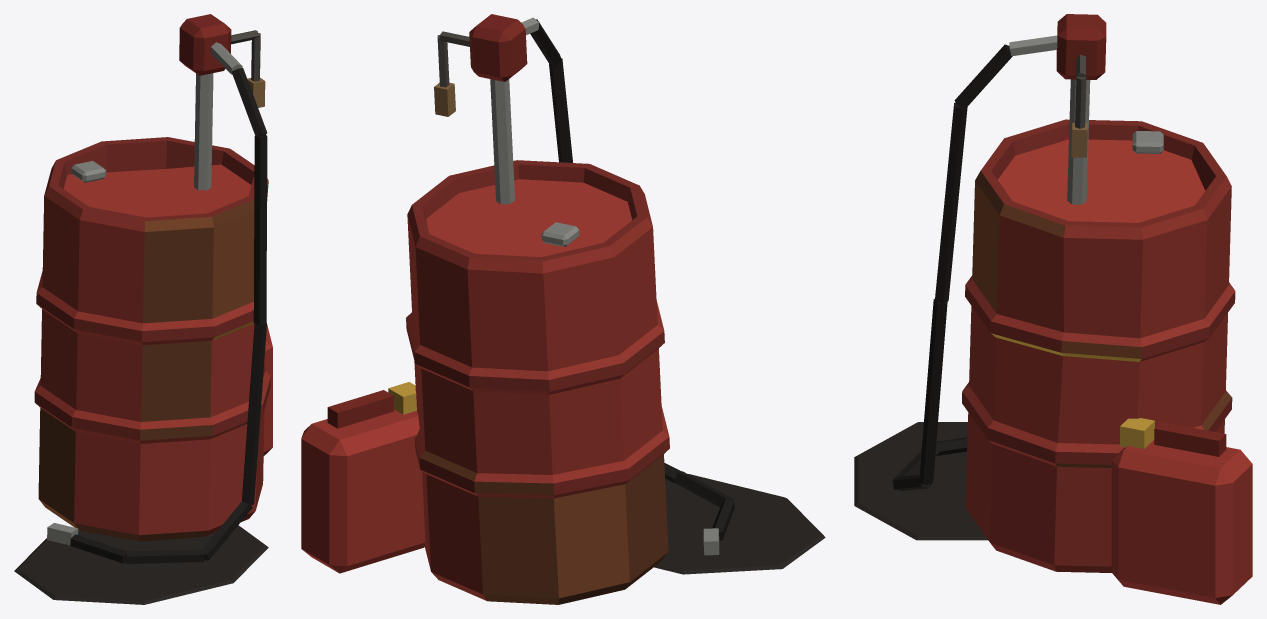
The model's file is tambor_gasolina.glb.
3 views of the same model, side by side, from view 1: azimuth 30°, elevation 25°; view 2: azimuth 150°, elevation 25°; view 3: azimuth 270°, elevation 25° (orthographic). The views are drawn at different scales.
Visible parts, largest first — view 1: tambor_gasolina.001; view 2: tambor_gasolina.001; view 3: tambor_gasolina.001.
Boxes of the visible parts, <box> form: tambor_gasolina.001: <box>14,14,272,604</box>; tambor_gasolina.001: <box>301,14,825,604</box>; tambor_gasolina.001: <box>854,14,1252,604</box>.
Size of the model in its own units: 1 by 1.33 by 0.8996.
